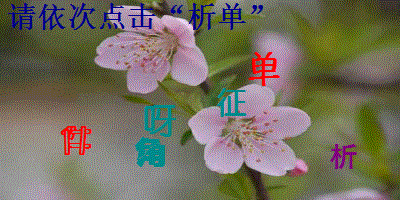text: (142, 103, 177, 139), (249, 50, 281, 87), (134, 137, 167, 168), (217, 86, 248, 119), (60, 125, 92, 156), (329, 142, 359, 170)
